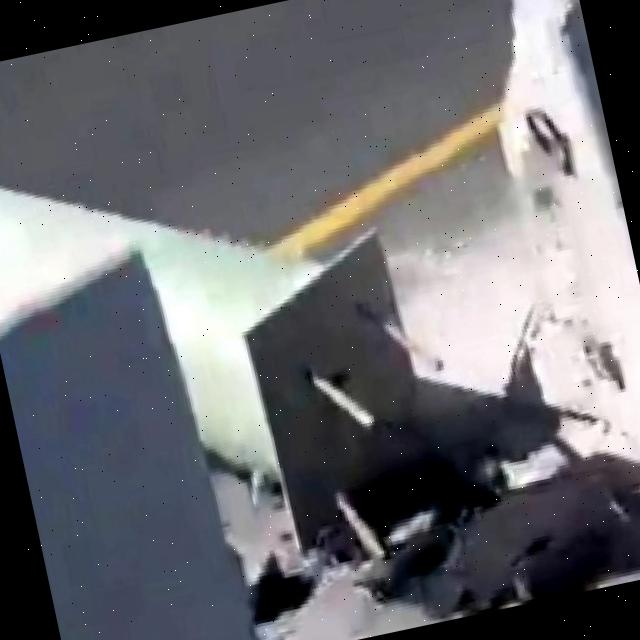Broken Pole: (0, 186, 640, 607)
